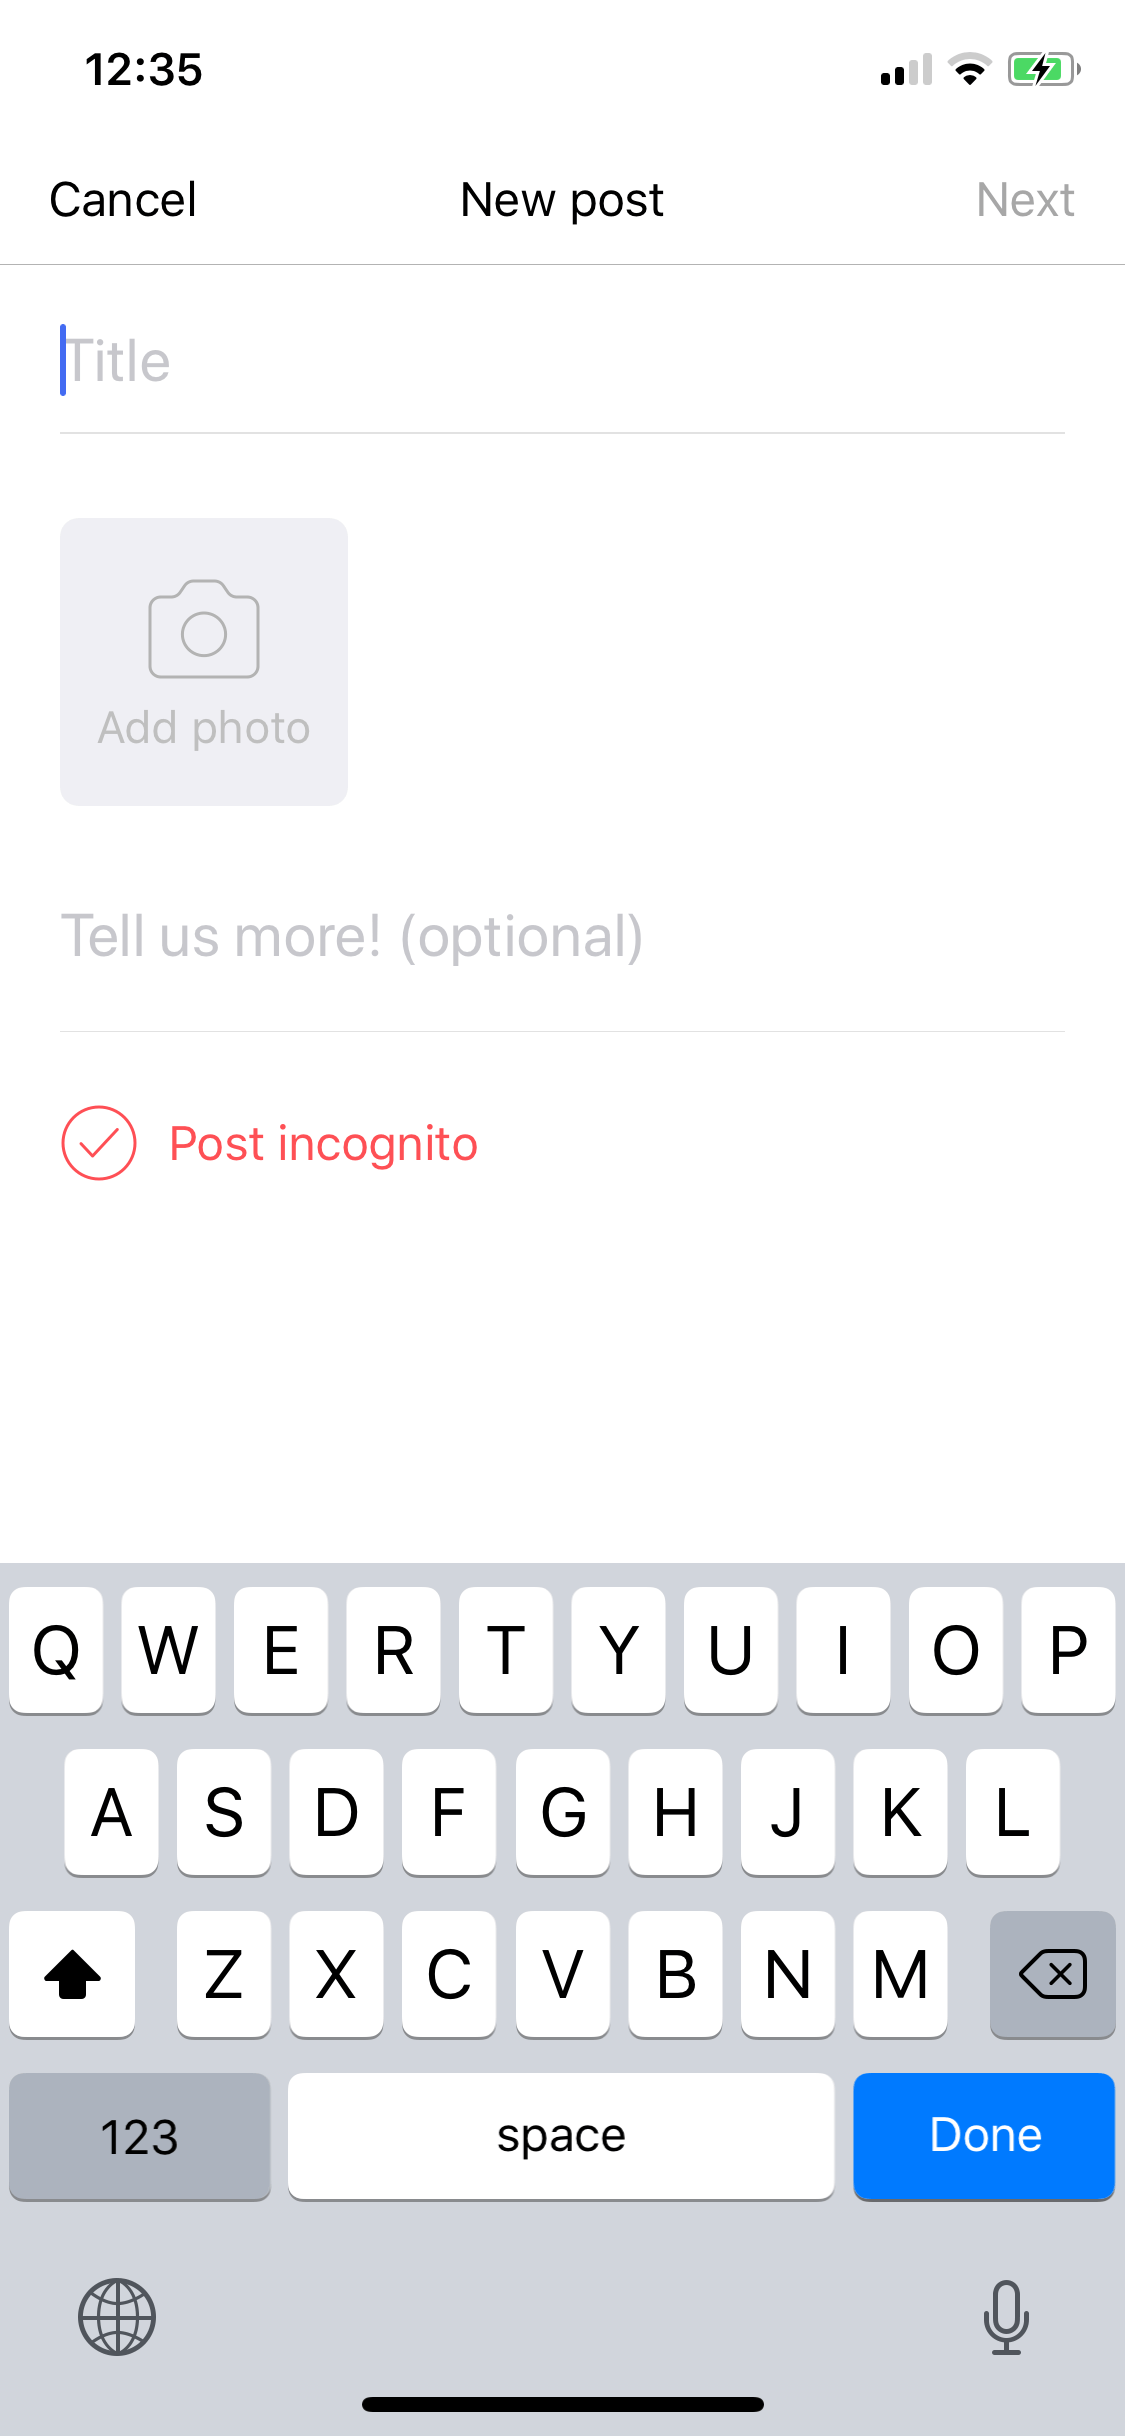Buttons: (50, 505, 357, 817), (9, 137, 253, 249), (935, 137, 1106, 253)
Checkboxes: (42, 1083, 514, 1202)
Text Fields: (23, 273, 1088, 466), (33, 861, 1074, 1047)
